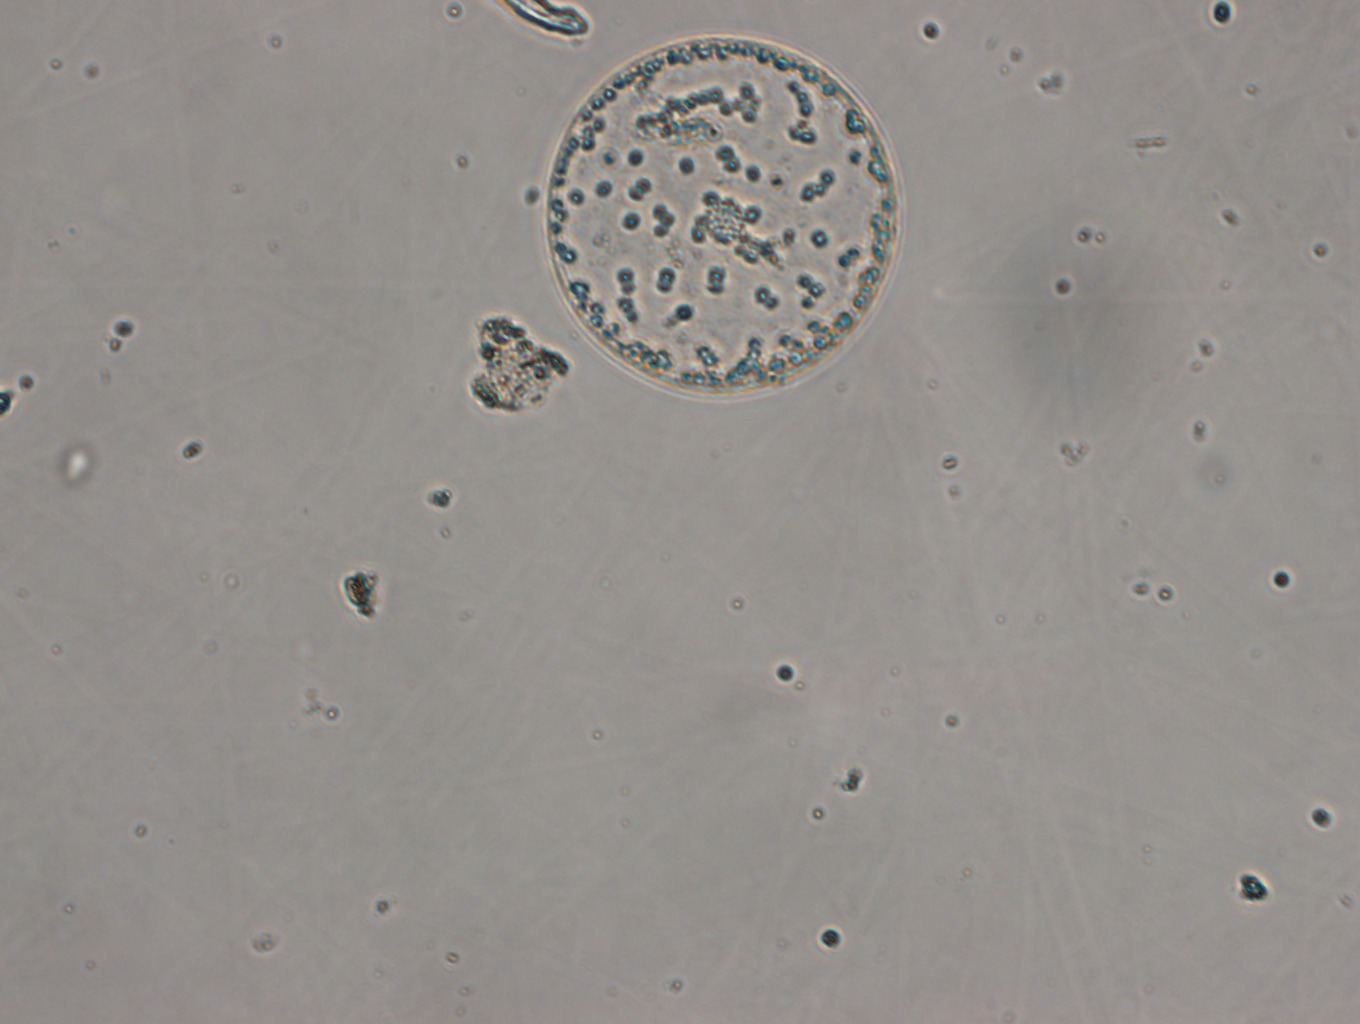coscinodiscus: (544, 37, 900, 392)
